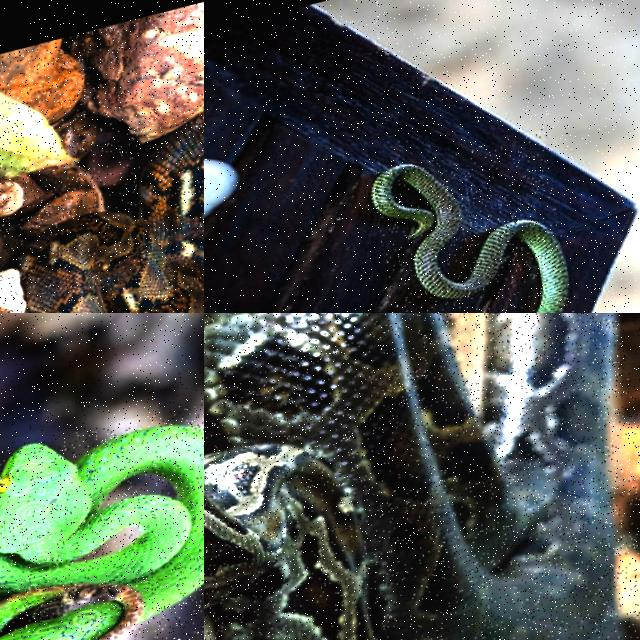Chrysopelea ornata: (370, 164, 568, 312)
Malayopython reticulatus: (20, 113, 203, 312)
Python bivittatus: (204, 313, 620, 639)
Trimeresurus macrops: (0, 426, 203, 639)
snake: (204, 313, 620, 639), (0, 426, 203, 639), (20, 113, 203, 312), (370, 164, 568, 312)
